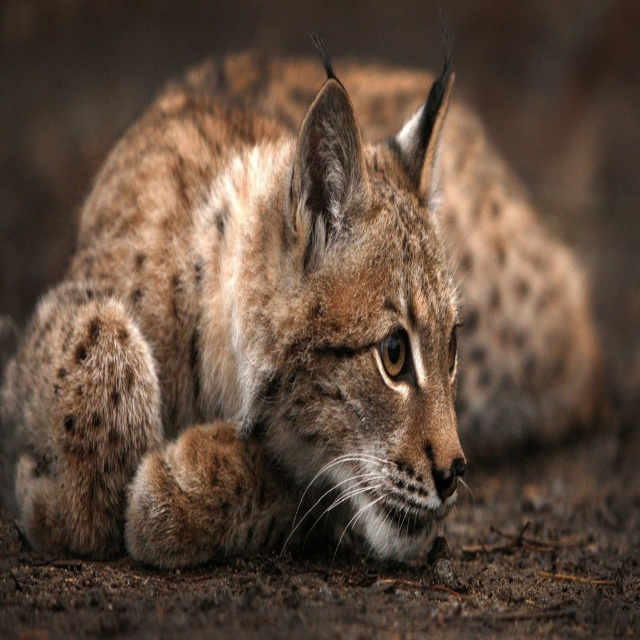Lynx: (0, 6, 606, 582)
